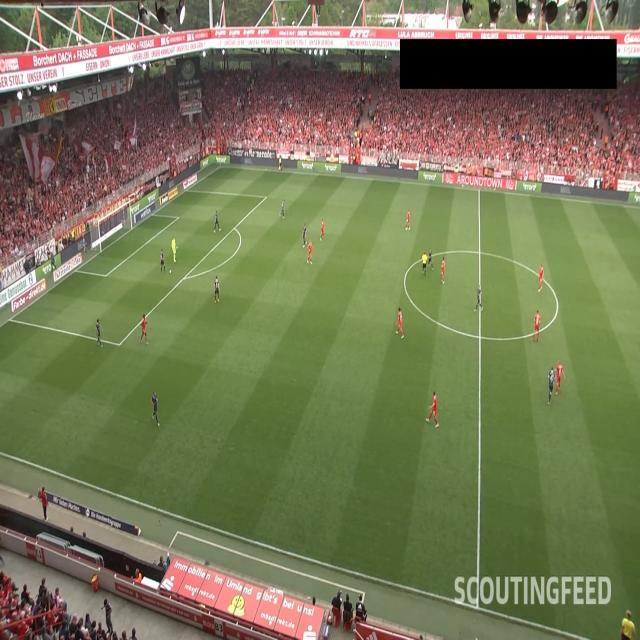ball: (169, 268, 172, 274)
